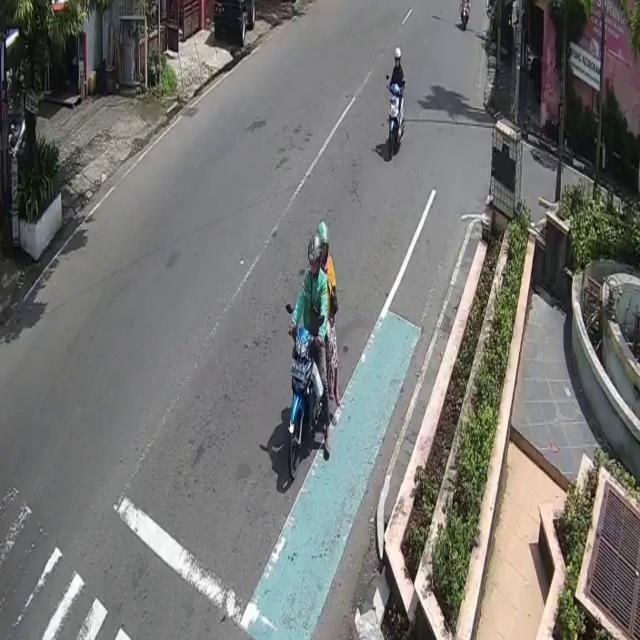motorbike: (289, 325, 325, 481), (389, 81, 404, 160)
